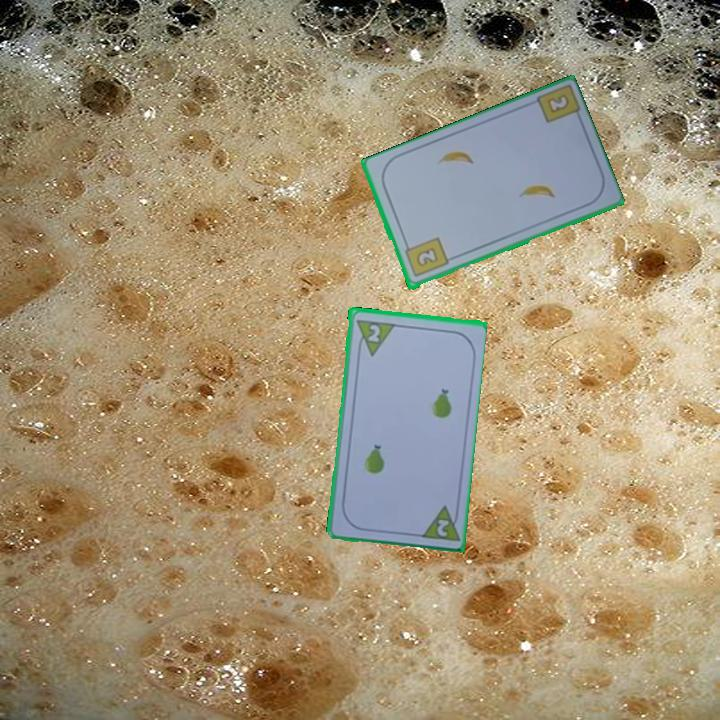2b: (401, 234, 451, 280), (546, 93, 570, 114)
2p: (416, 501, 462, 544), (352, 316, 396, 358)
